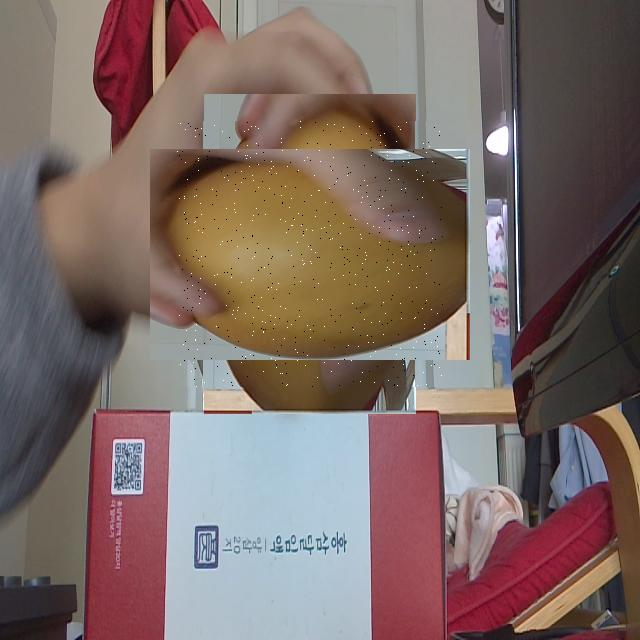pear: (178, 121, 444, 387)
